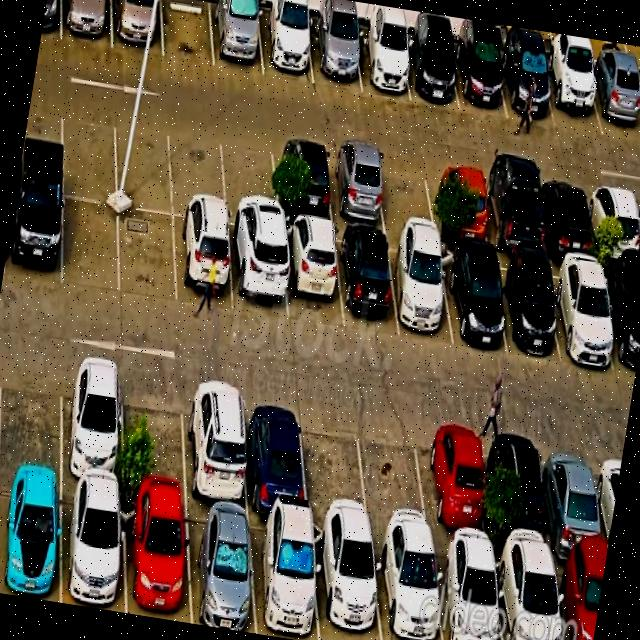empty: (358, 408, 432, 539), (301, 400, 370, 530), (123, 368, 187, 501), (0, 349, 61, 478), (115, 112, 173, 215), (221, 130, 279, 232), (171, 122, 227, 223), (120, 207, 176, 306), (62, 103, 117, 203), (63, 197, 119, 294), (376, 152, 436, 235), (162, 0, 214, 67)
occupied: (185, 504, 256, 634), (422, 415, 489, 549), (123, 494, 191, 624), (249, 514, 319, 640), (184, 378, 248, 511), (542, 433, 607, 563), (243, 388, 308, 518), (62, 483, 126, 613), (61, 356, 123, 490), (313, 523, 382, 640), (492, 425, 553, 556), (0, 475, 62, 603), (547, 258, 616, 368), (373, 535, 443, 640), (439, 247, 507, 354), (491, 254, 560, 357), (388, 237, 453, 346), (433, 541, 503, 640), (336, 229, 399, 334), (282, 221, 343, 328), (494, 550, 562, 640), (4, 184, 63, 287), (228, 227, 288, 321), (481, 168, 545, 256), (174, 217, 233, 312), (272, 138, 333, 223), (429, 161, 490, 245), (327, 145, 386, 229), (542, 55, 603, 136), (538, 175, 596, 258), (499, 45, 555, 128), (601, 264, 640, 377), (587, 181, 640, 264), (553, 557, 606, 640), (586, 61, 640, 142), (452, 39, 507, 118), (402, 35, 459, 110), (258, 8, 314, 84), (354, 27, 410, 101), (210, 0, 263, 76), (309, 20, 361, 90), (111, 0, 163, 56), (61, 0, 112, 48)
